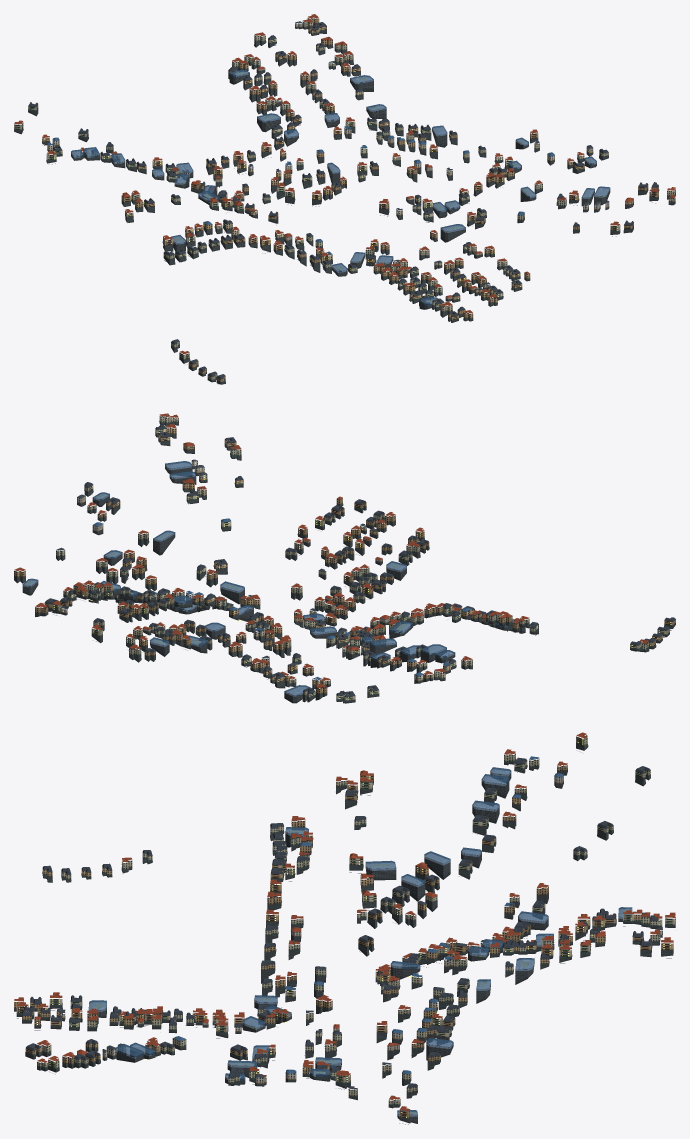
Rendered from osm_buildings_T_E02_S01_Q1.glb.
The picture shows the model from 3 angles, top to bottom: view 1: azimuth 30°, elevation 25°; view 2: azimuth 150°, elevation 25°; view 3: azimuth 270°, elevation 25°; orthographic projection. The views are drawn at different scales.
Visible parts, largest first — view 1: OSM_T_E02_S01_Q1_foundation, OSM_T_E02_S01_Q1_wall_french_ochre, OSM_T_E02_S01_Q1_wall_cream_stucco, OSM_T_E02_S01_Q1_roof_terracotta, OSM_T_E02_S01_Q1_greenhouse_blend, OSM_T_E02_S01_Q1_roof_mansard_slate, OSM_T_E02_S01_Q1_roof_mansard_deck, OSM_T_E02_S01_Q1_roof_mint_metal, OSM_T_E02_S01_Q1_balcony_railing, OSM_T_E02_S01_Q1_trim_cornice; view 2: OSM_T_E02_S01_Q1_foundation, OSM_T_E02_S01_Q1_wall_french_ochre, OSM_T_E02_S01_Q1_wall_cream_stucco, OSM_T_E02_S01_Q1_roof_terracotta, OSM_T_E02_S01_Q1_greenhouse_blend, OSM_T_E02_S01_Q1_roof_mansard_slate, OSM_T_E02_S01_Q1_roof_mansard_deck, OSM_T_E02_S01_Q1_roof_mint_metal, OSM_T_E02_S01_Q1_balcony_railing, OSM_T_E02_S01_Q1_trim_cornice; view 3: OSM_T_E02_S01_Q1_foundation, OSM_T_E02_S01_Q1_wall_cream_stucco, OSM_T_E02_S01_Q1_wall_french_ochre, OSM_T_E02_S01_Q1_greenhouse_blend, OSM_T_E02_S01_Q1_roof_terracotta, OSM_T_E02_S01_Q1_roof_mansard_slate, OSM_T_E02_S01_Q1_roof_mansard_deck, OSM_T_E02_S01_Q1_roof_mint_metal, OSM_T_E02_S01_Q1_trim_cornice, OSM_T_E02_S01_Q1_balcony_railing, OSM_T_E02_S01_Q1_roof_alpine_blue.
Boxes of the visible parts, <box> form: OSM_T_E02_S01_Q1_foundation: <box>14,23,675,384</box>; OSM_T_E02_S01_Q1_wall_french_ochre: <box>42,18,658,382</box>; OSM_T_E02_S01_Q1_wall_cream_stucco: <box>14,21,675,379</box>; OSM_T_E02_S01_Q1_roof_terracotta: <box>14,14,675,354</box>; OSM_T_E02_S01_Q1_greenhouse_blend: <box>71,69,610,305</box>; OSM_T_E02_S01_Q1_roof_mansard_slate: <box>28,21,658,379</box>; OSM_T_E02_S01_Q1_roof_mansard_deck: <box>29,22,657,377</box>; OSM_T_E02_S01_Q1_roof_mint_metal: <box>14,23,675,382</box>; OSM_T_E02_S01_Q1_balcony_railing: <box>23,18,675,384</box>; OSM_T_E02_S01_Q1_trim_cornice: <box>14,18,671,380</box>; OSM_T_E02_S01_Q1_foundation: <box>14,421,675,703</box>; OSM_T_E02_S01_Q1_wall_french_ochre: <box>14,427,675,694</box>; OSM_T_E02_S01_Q1_wall_cream_stucco: <box>52,416,669,700</box>; OSM_T_E02_S01_Q1_roof_terracotta: <box>14,413,648,693</box>; OSM_T_E02_S01_Q1_greenhouse_blend: <box>22,461,515,696</box>; OSM_T_E02_S01_Q1_roof_mansard_slate: <box>45,425,675,696</box>; OSM_T_E02_S01_Q1_roof_mansard_deck: <box>29,424,674,696</box>; OSM_T_E02_S01_Q1_roof_mint_metal: <box>14,422,672,701</box>; OSM_T_E02_S01_Q1_balcony_railing: <box>15,416,670,701</box>; OSM_T_E02_S01_Q1_trim_cornice: <box>16,416,675,697</box>; OSM_T_E02_S01_Q1_foundation: <box>14,743,675,1123</box>; OSM_T_E02_S01_Q1_wall_cream_stucco: <box>25,735,675,1104</box>; OSM_T_E02_S01_Q1_wall_french_ochre: <box>14,765,673,1118</box>; OSM_T_E02_S01_Q1_greenhouse_blend: <box>88,767,632,1116</box>; OSM_T_E02_S01_Q1_roof_terracotta: <box>14,732,675,1111</box>; OSM_T_E02_S01_Q1_roof_mansard_slate: <box>22,758,662,1089</box>; OSM_T_E02_S01_Q1_roof_mansard_deck: <box>23,757,657,1114</box>; OSM_T_E02_S01_Q1_roof_mint_metal: <box>14,745,673,1118</box>; OSM_T_E02_S01_Q1_trim_cornice: <box>17,735,671,1124</box>; OSM_T_E02_S01_Q1_balcony_railing: <box>18,738,675,1116</box>; OSM_T_E02_S01_Q1_roof_alpine_blue: <box>173,756,563,1074</box>.
Bounding box in the file's own units: 999 × 239 × 937.
Materials: 16 (16 with a texture image).
